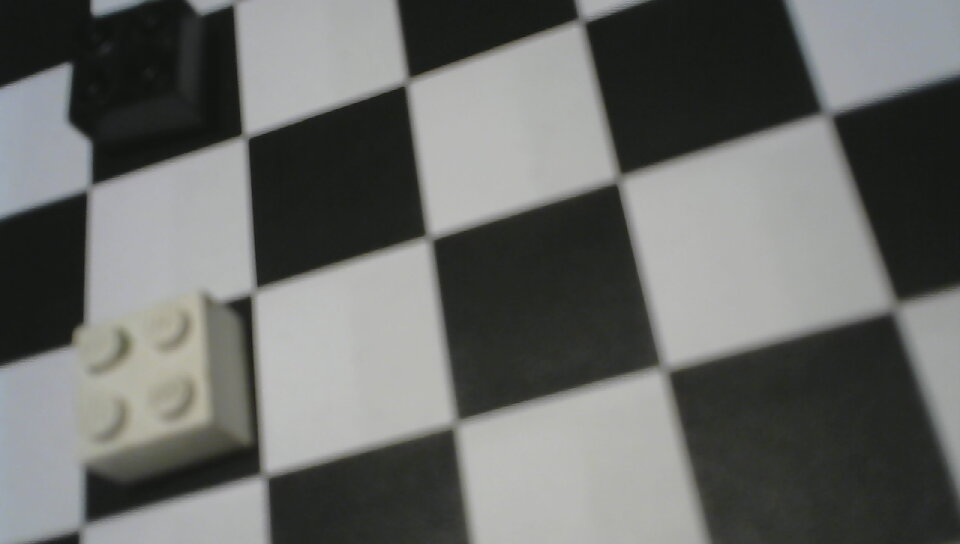bp: (64, 1, 221, 156)
